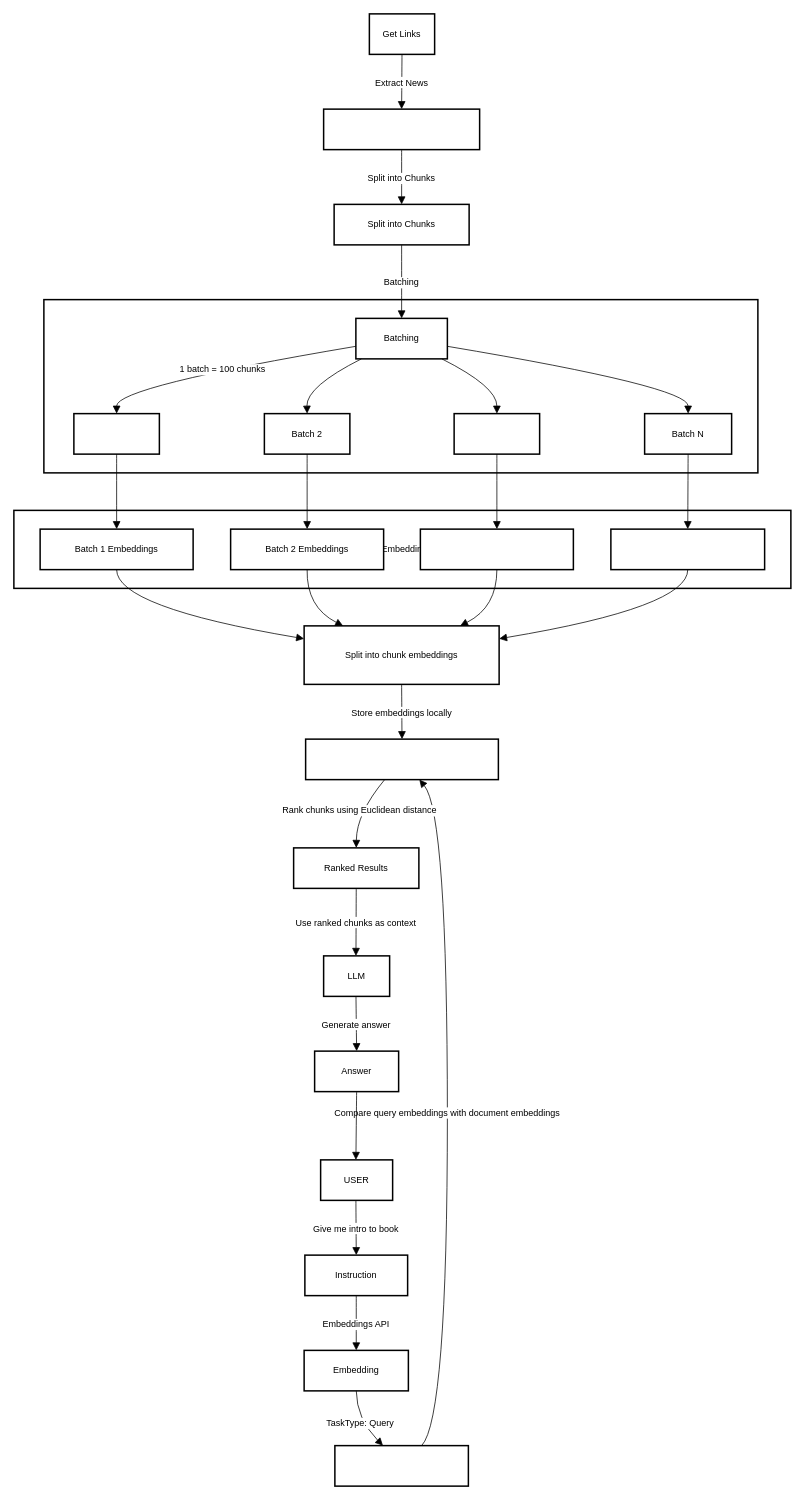
The diagram is 804 pixels wide and 1499 high, and some of its shapes have lost their labels. The box of each missing label's shape, as (x1, y1, x2, y2) in pixels:
Batch 1: (73, 412, 160, 454)
Batch 3: (453, 412, 540, 454)
Batch 3 Embeddings: (419, 528, 574, 570)
Batch N Embeddings: (610, 528, 765, 570)
Batch Processing: (43, 298, 758, 473)
chromaDB- Chunk & Embeddings: (304, 738, 499, 780)
Extract pages from News websites: (322, 108, 480, 150)
Semantic Search: (334, 1444, 469, 1486)
